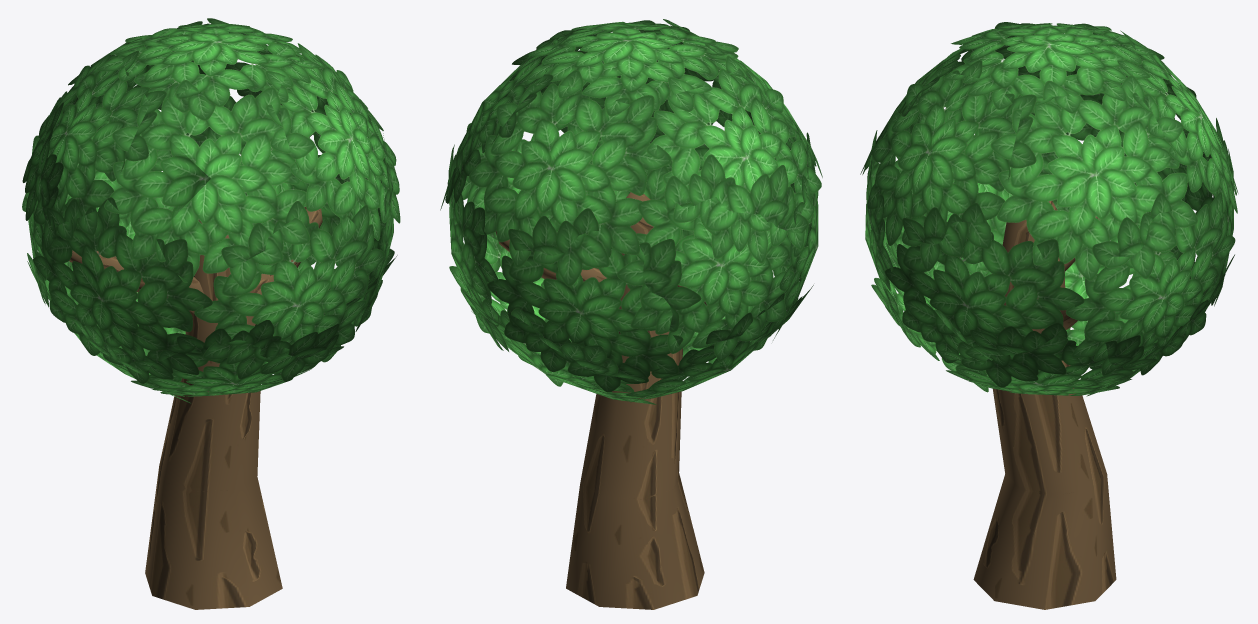
The model's file is Ctn_Tree_01_v02.FBX.
3 renders of one model, left to right at view 1: azimuth 30°, elevation 25°; view 2: azimuth 150°, elevation 25°; view 3: azimuth 270°, elevation 25°, orthographic.
Visible parts, largest first — view 1: Ctn_Tree_01_v02; view 2: Ctn_Tree_01_v02; view 3: Ctn_Tree_01_v02.
Part boxes in pixels (x1,y1,x2,y2): Ctn_Tree_01_v02: (22,18,400,609); Ctn_Tree_01_v02: (440,19,822,609); Ctn_Tree_01_v02: (860,22,1238,609).
Bounding box in the file's own units: 139 × 210 × 137.
